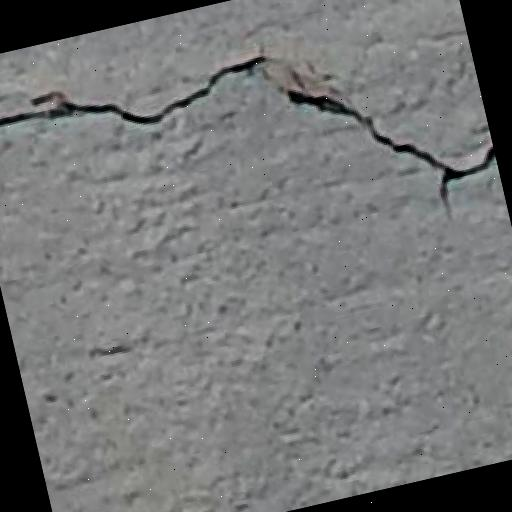spalling: (0, 36, 495, 199)
